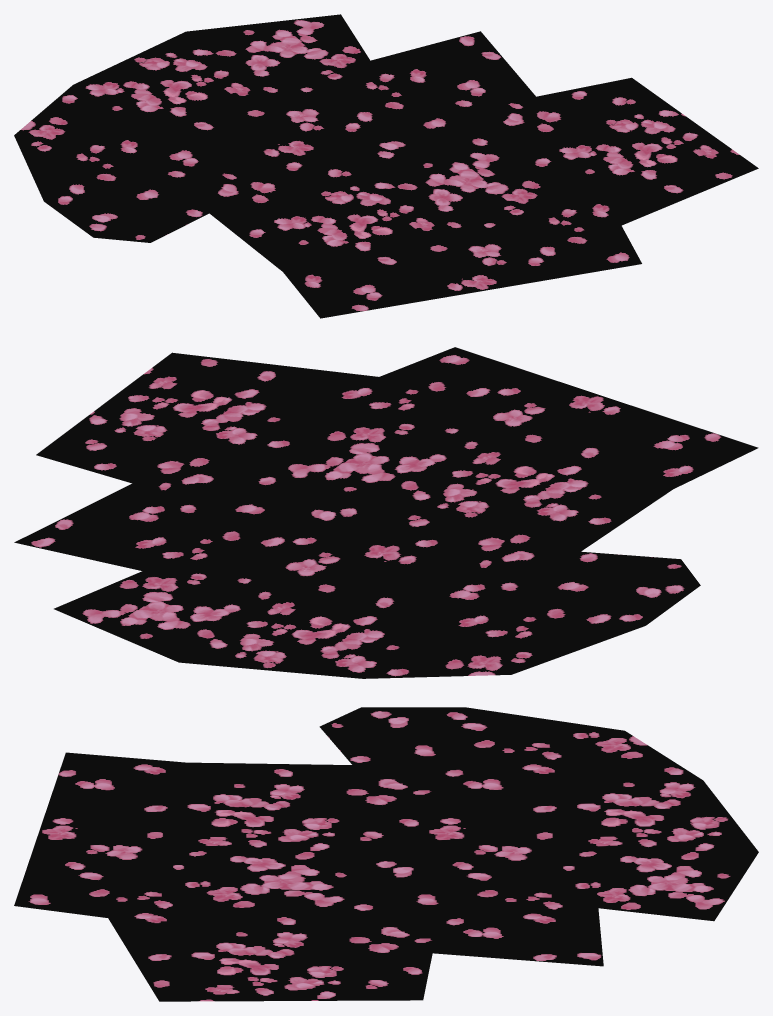
File: shrine_wj009_03.FBX
3 views of the same model, one above another, from view 1: azimuth 30°, elevation 25°; view 2: azimuth 150°, elevation 25°; view 3: azimuth 270°, elevation 25° (orthographic). The views are drawn at different scales.
Parts seen in each view (by area): view 1: shrine_wj009_03; view 2: shrine_wj009_03; view 3: shrine_wj009_03.
Part boxes in pixels (<box>): shrine_wj009_03: <box>14,14,758,318</box>; shrine_wj009_03: <box>14,347,758,678</box>; shrine_wj009_03: <box>14,707,758,1001</box>.
Size of the model in its own units: 279 by 2.62e-05 by 298.
